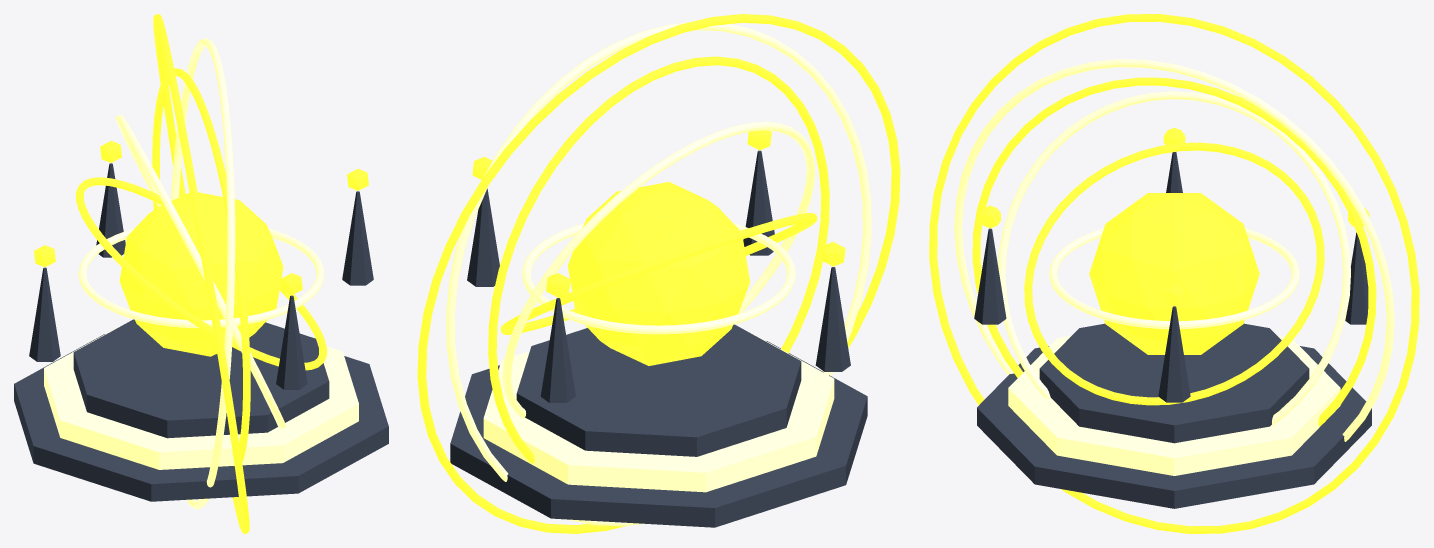
Rendered from gpu-blender-v45.glb.
The picture shows the model from 3 angles, left to right: view 1: azimuth 30°, elevation 25°; view 2: azimuth 150°, elevation 25°; view 3: azimuth 270°, elevation 25°; orthographic projection. The views are drawn at different scales.
Parts seen in each view (by area): view 1: Cylinder.002, Cylinder, SovereignCore_datamosh-glitch-studio, Cylinder.001, Torus.005, Torus.004, Torus.003, Torus.001, Torus, Torus.002, Cone, Cone.003 (+2 smaller); view 2: Cylinder.002, SovereignCore_datamosh-glitch-studio, Cylinder, Cylinder.001, Torus.005, Torus.004, Torus.003, Torus.002, Torus, Torus.001, Cone.002, Cone.001 (+2 smaller); view 3: SovereignCore_datamosh-glitch-studio, Cylinder.002, Cylinder, Cylinder.001, Torus.005, Torus.004, Torus.001, Torus.002, Torus.003, Torus, Cone, Cone.003 (+1 smaller).
Boxes of the visible parts, x1,y1,x2,y2 form: Cylinder.002: (73,319,329,438); Cylinder: (14,334,388,501); SovereignCore_datamosh-glitch-studio: (119,192,283,356); Cylinder.001: (44,326,358,469); Torus.005: (153,14,249,533); Torus.004: (171,38,235,509); Torus.003: (152,68,250,461); Torus.001: (76,177,326,370); Torus: (78,228,324,328); Torus.002: (116,115,285,428); Cone: (342,191,373,285); Cone.003: (276,295,307,389); Cylinder.002: (516,324,801,456); SovereignCore_datamosh-glitch-studio: (568,182,749,365); Cylinder: (450,341,867,527); Cylinder.001: (483,332,834,492); Torus.005: (417,14,900,533); Torus.004: (446,22,871,526); Torus.003: (488,56,829,463); Torus.002: (502,121,815,418); Torus: (522,223,795,334); Torus.001: (500,213,817,334); Cone.002: (815,267,850,371); Cone.001: (540,298,575,402); SovereignCore_datamosh-glitch-studio: (1089,193,1259,354); Cylinder.002: (1039,323,1309,443); Cylinder: (977,346,1371,508); Cylinder.001: (1008,336,1340,475); Torus.005: (929,14,1419,533); Torus.004: (954,59,1394,441); Torus.001: (1024,142,1324,405); Torus.002: (998,91,1350,425); Torus.003: (972,77,1376,426); Torus: (1049,228,1299,328); Cone: (1158,306,1190,402); Cone.003: (974,228,1006,324).
Size of the model in its own units: 4.41 by 5.93 by 5.46.
